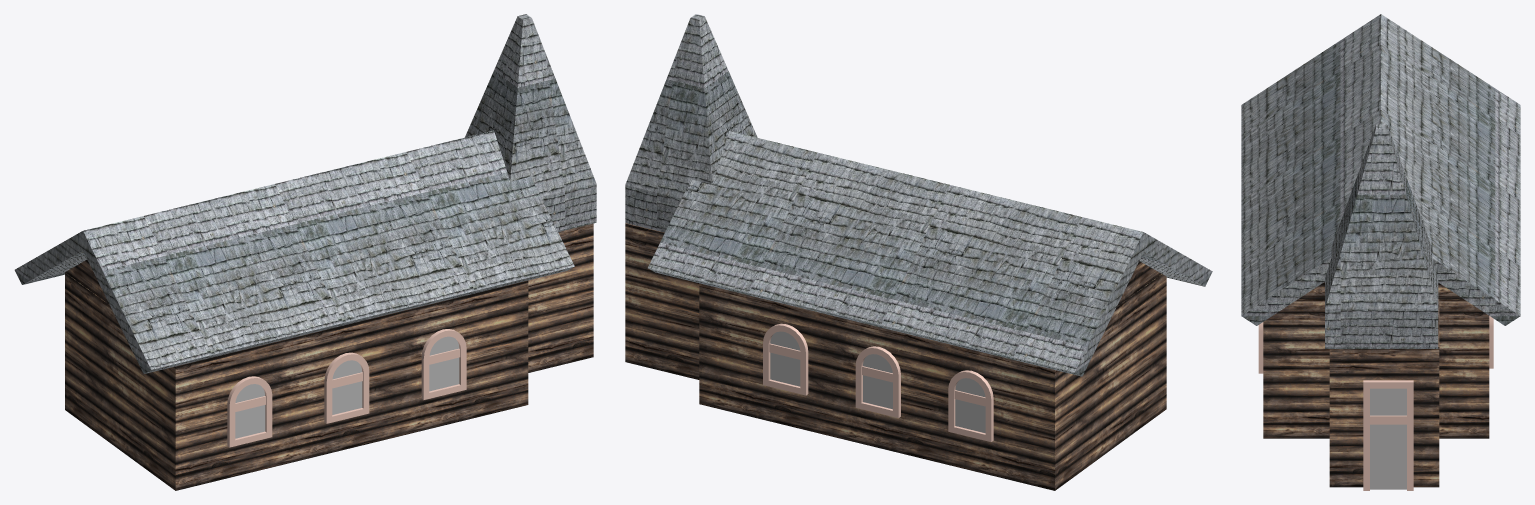
Rendered from Church.glb.
The picture shows the model from 3 angles, left to right: view 1: azimuth 30°, elevation 25°; view 2: azimuth 150°, elevation 25°; view 3: azimuth 270°, elevation 25°; orthographic projection. The views are drawn at different scales.
Visible parts, largest first — view 1: mergedBlocks(Clone); view 2: mergedBlocks(Clone); view 3: mergedBlocks(Clone).
Part boxes in pixels (left/top/right/bottom): mergedBlocks(Clone): left=14, top=14, right=596, bottom=490; mergedBlocks(Clone): left=625, top=14, right=1212, bottom=490; mergedBlocks(Clone): left=1241, top=14, right=1520, bottom=490.
Size of the model in its own units: 3.73 by 2.43 by 1.8.
4 materials, 2 textured.
